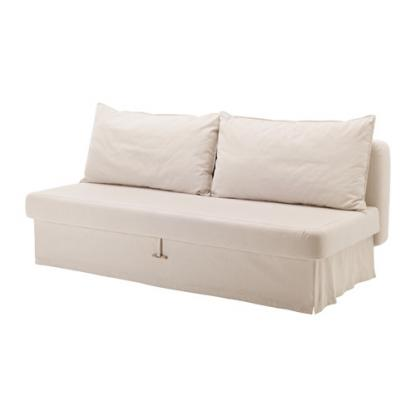Bed: (21, 98, 393, 314)
